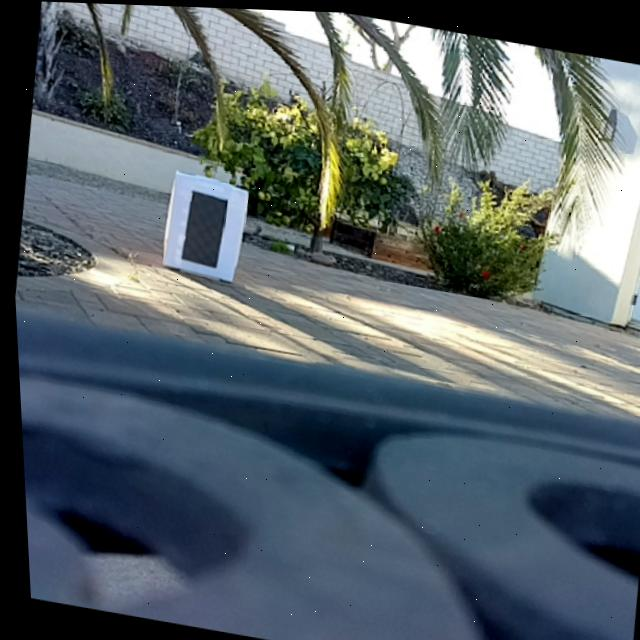led: (176, 187, 228, 267)
